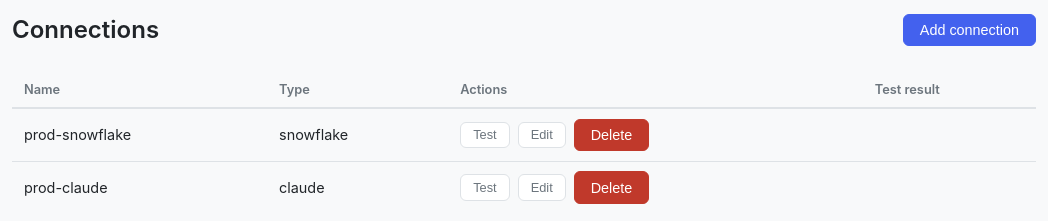
Test: SettingsPage › shows spinner while test is pending
Expected: the text "prod-snowflake" is shown, [12,108,267,161]
Click the button "Test" in the row of "prod-snowflake".
click(485, 135)  # box [460,122,510,148]
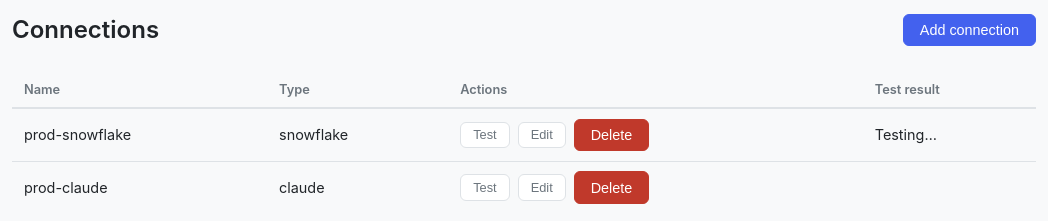
Expected: the message "Testing…" is shown, [875,126,937,143]
